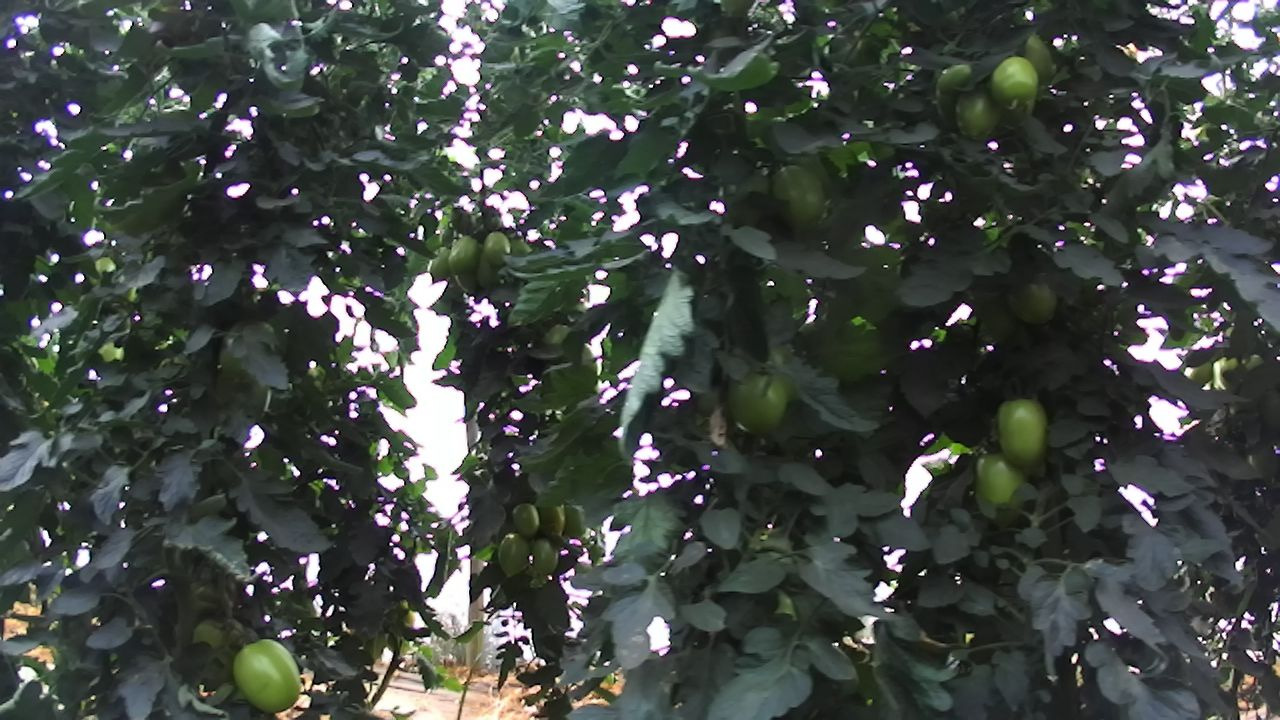tomato: (227, 636, 307, 714), (717, 359, 792, 440), (974, 451, 1036, 527), (766, 158, 829, 229), (993, 394, 1052, 468), (951, 79, 1004, 147), (987, 50, 1042, 114), (1003, 277, 1062, 329), (494, 531, 535, 579), (442, 232, 482, 278), (509, 499, 543, 540), (478, 226, 511, 268), (527, 533, 561, 573), (428, 243, 453, 284)
